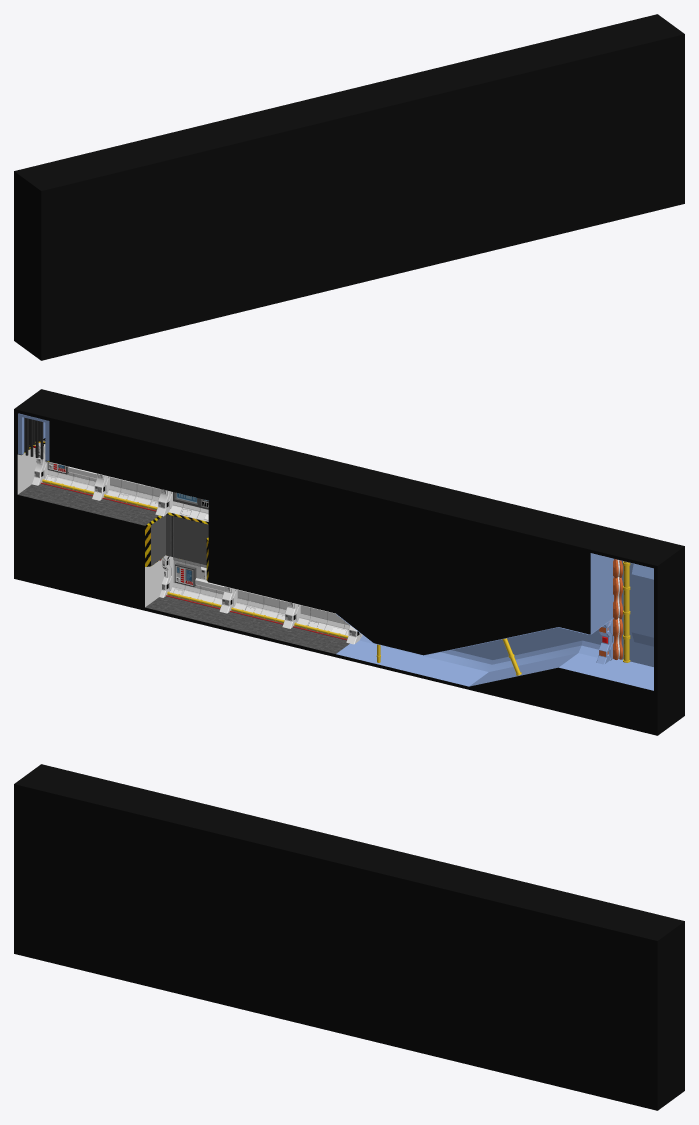
File: Map_Level_1_Revised.FBX
The picture shows the model from 3 angles, top to bottom: view 1: azimuth 30°, elevation 25°; view 2: azimuth 150°, elevation 25°; view 3: azimuth 330°, elevation 25°; orthographic projection.
Visible parts, largest first — view 1: Box003; view 2: Box003, Object007, Object009, Plane018, Plane100, Plane071, Plane072, Plane101, Plane066, Object006, Plane079, Cylinder047 (+1 smaller); view 3: Box003.
Part boxes in pixels (left/top/right/bottom): Box003: left=14, top=14, right=684, bottom=360; Box003: left=14, top=389, right=684, bottom=735; Object007: left=336, top=614, right=611, bottom=686; Object009: left=590, top=553, right=653, bottom=690; Plane018: left=145, top=492, right=208, bottom=582; Plane100: left=145, top=557, right=224, bottom=622; Plane071: left=17, top=440, right=96, bottom=510; Plane072: left=82, top=470, right=160, bottom=525; Plane101: left=209, top=582, right=287, bottom=638; Plane066: left=272, top=598, right=349, bottom=653; Object006: left=18, top=413, right=49, bottom=461; Plane079: left=613, top=559, right=622, bottom=659; Cylinder047: left=623, top=561, right=630, bottom=662; Box003: left=14, top=764, right=684, bottom=1110.
Size of the model in its own units: 1353 by 341 by 99.79.
